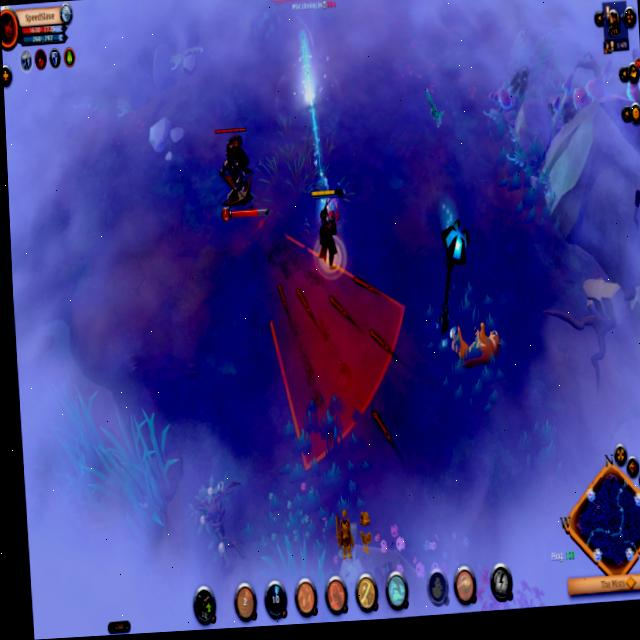10: (425, 212, 483, 341)
mob: (446, 310, 507, 374)
ore: (186, 468, 244, 575), (209, 121, 266, 226)
red: (308, 181, 353, 278)
silver: (259, 212, 414, 476)
